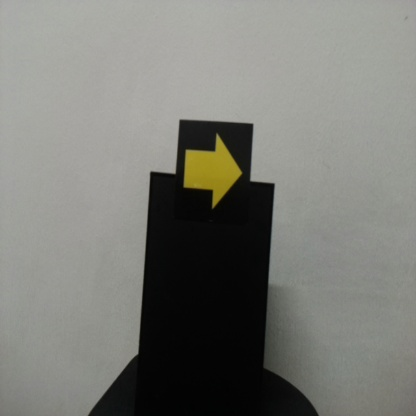id_3: (179, 121, 252, 220)
